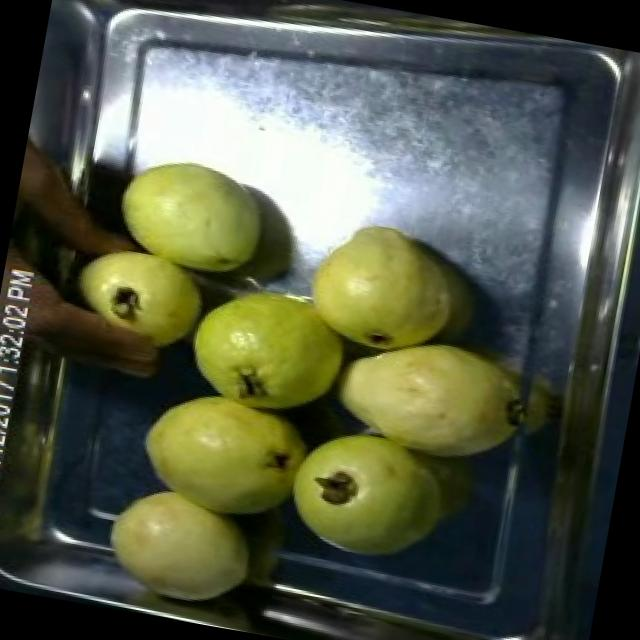Fruit: (308, 312, 534, 486), (286, 200, 494, 378), (172, 256, 376, 424), (264, 408, 458, 578), (124, 382, 326, 534), (100, 137, 286, 294), (88, 470, 268, 626)
